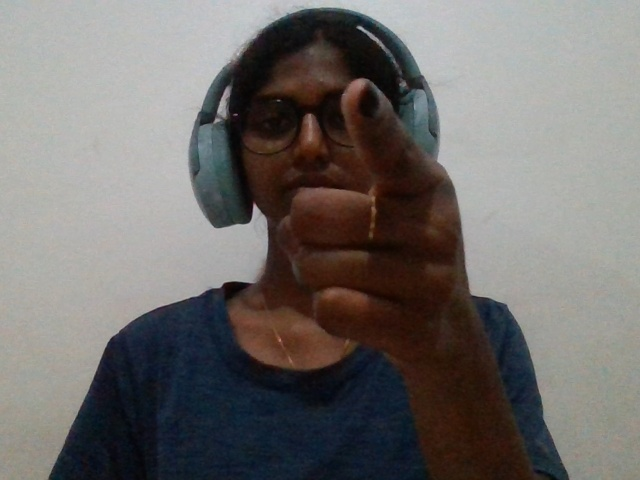You: (241, 51, 500, 409)
